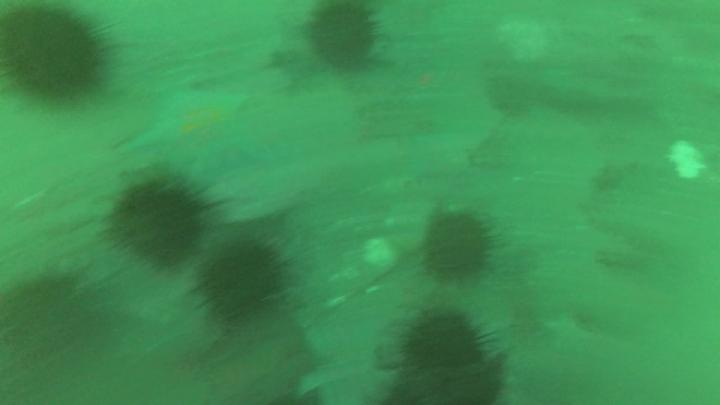echinus: (400, 312, 495, 405), (3, 11, 99, 96), (109, 190, 205, 264), (199, 239, 281, 319), (309, 7, 381, 69), (426, 214, 490, 280)
starfish: (124, 89, 269, 183)
